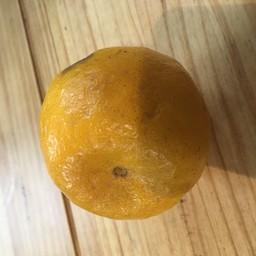Good_orange: (34, 42, 247, 223)
